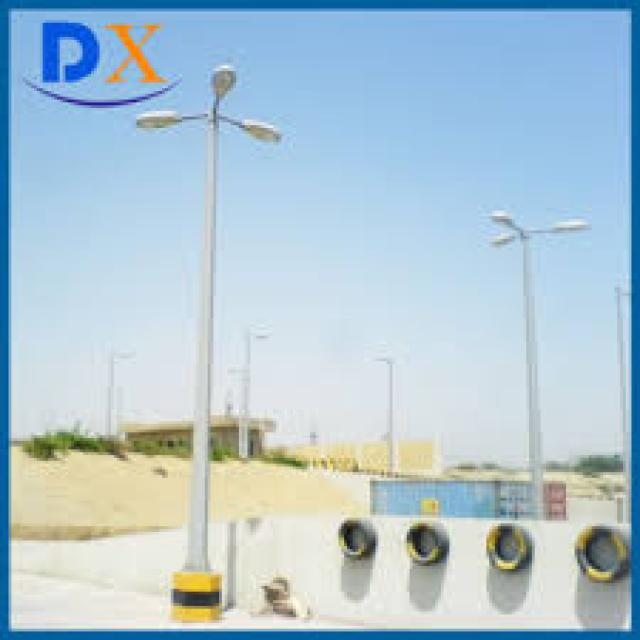Street Light: (134, 65, 282, 618), (486, 208, 592, 526), (376, 353, 398, 472)
